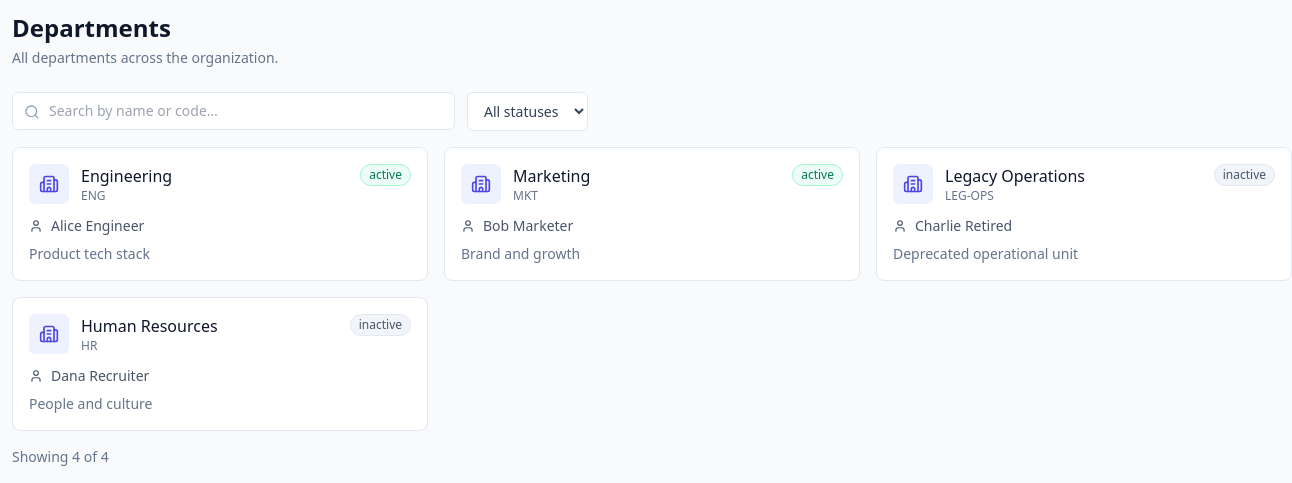
Scenario: DepartmentsPage - Filtering and Interaction › allows Viewer to filter departments while keeping administrative actions hidden
Expected: the text "Engineering" is shown, [81, 164, 172, 188]
Note: Filter controls should be present and usable
Select "Inactive" in the dropdown named "filter by department status" at {"x": 528, "y": 112}, box [467, 92, 588, 131]
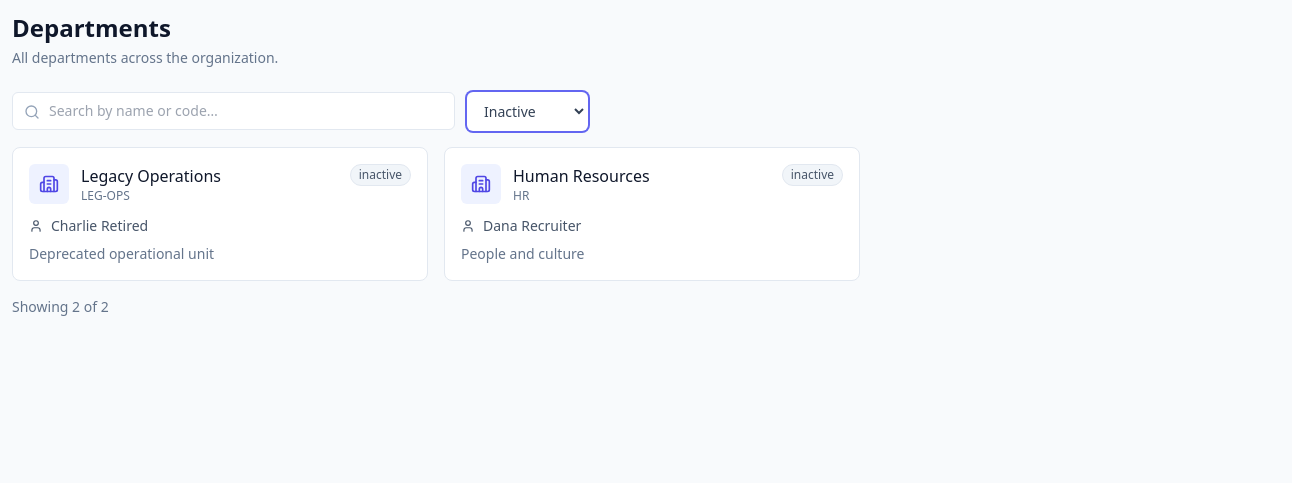
Expected: the text "Legacy Operations" is shown, [81, 164, 221, 188]
Now the link "Engineering" is gone
